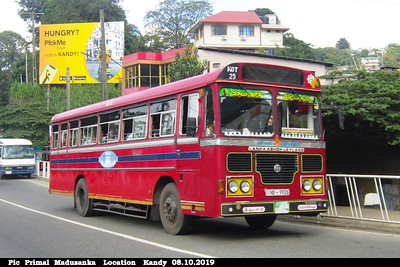bus: (48, 61, 328, 234), (1, 137, 36, 178)
